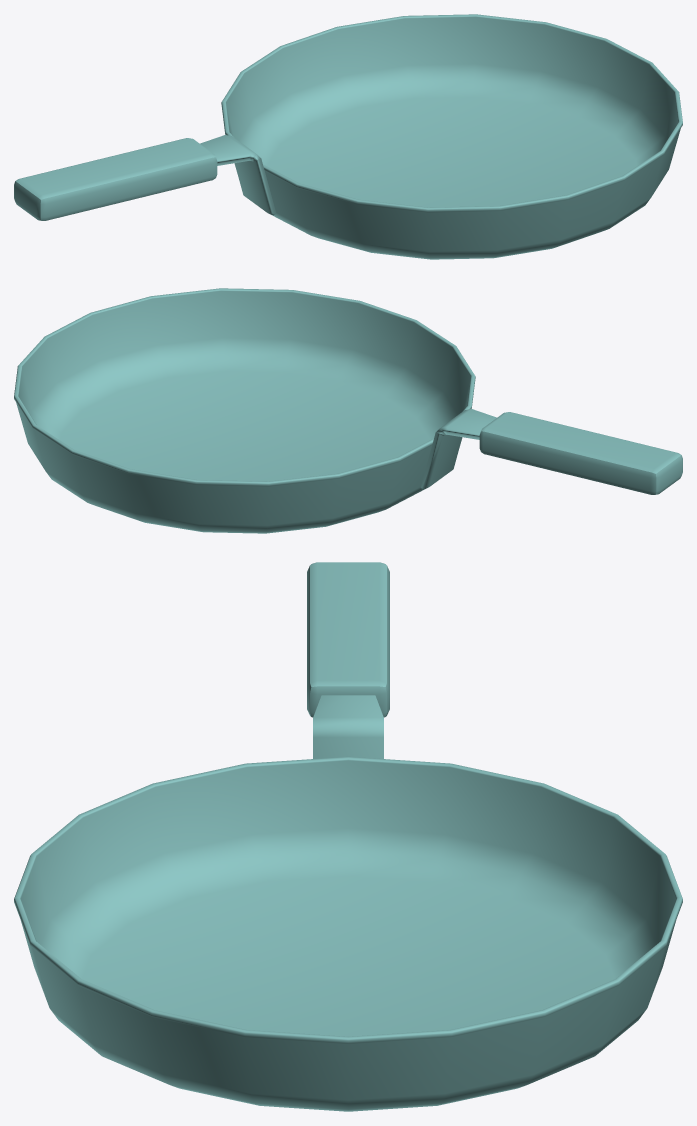
The model's file is pan.fbx.
The picture shows the model from 3 angles, top to bottom: view 1: azimuth 30°, elevation 25°; view 2: azimuth 150°, elevation 25°; view 3: azimuth 270°, elevation 25°; orthographic projection. The views are drawn at different scales.
Visible parts, largest first — view 1: polySurface6212; view 2: polySurface6212; view 3: polySurface6212.
Part boxes in pixels (x1=…): polySurface6212: x1=14, y1=14, x2=682, y2=259; polySurface6212: x1=14, y1=288, x2=682, y2=533; polySurface6212: x1=14, y1=562, x2=682, y2=1111.
Size of the model in its own units: 0.7762 by 0.1095 by 0.497.
